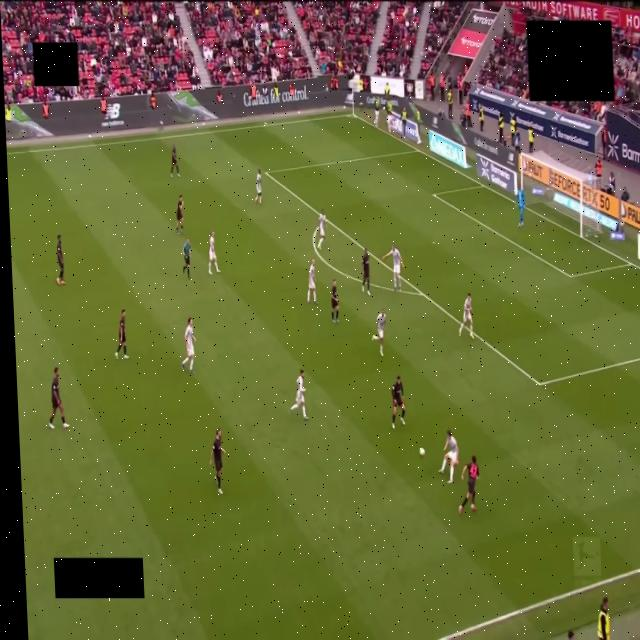ball: (420, 448, 425, 456)
player: (49, 368, 69, 429), (459, 456, 479, 513), (209, 429, 225, 494), (440, 430, 459, 483), (383, 246, 403, 291), (290, 369, 307, 420), (182, 318, 195, 373), (392, 376, 405, 429), (115, 309, 128, 359), (372, 310, 386, 356), (460, 294, 474, 338), (56, 235, 66, 285), (209, 231, 220, 274), (307, 259, 317, 304), (362, 248, 370, 295), (331, 280, 339, 322), (318, 210, 326, 249), (517, 189, 525, 227), (171, 145, 180, 177), (176, 195, 183, 234), (255, 168, 262, 204)
referee: (182, 239, 190, 279)
